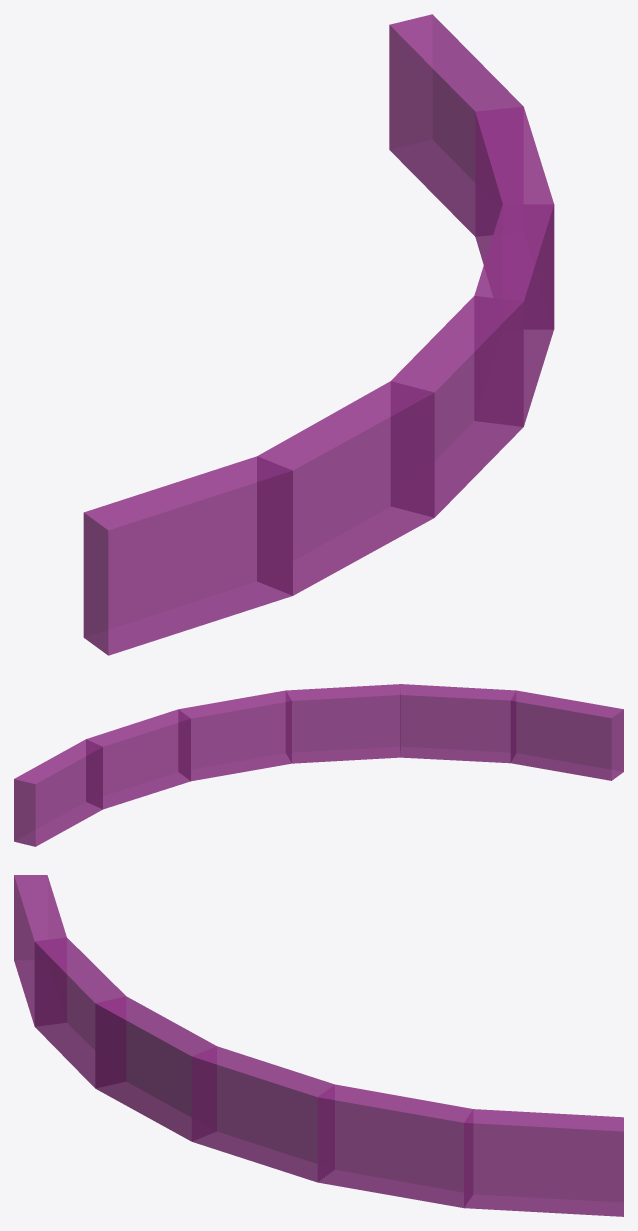
Rendered from SM_Bld_Wall_Curved_Large_Railing_01_Collision.fbx.
3 renders of one model, top to bottom at view 1: azimuth 30°, elevation 25°; view 2: azimuth 150°, elevation 25°; view 3: azimuth 270°, elevation 25°, orthographic. The views are drawn at different scales.
Visible parts, largest first — view 1: SM_Bld_Wall_Curved_Large_Railing_01_Collision; view 2: SM_Bld_Wall_Curved_Large_Railing_01_Collision; view 3: SM_Bld_Wall_Curved_Large_Railing_01_Collision.
Part boxes in pixels (left/top/right/bottom): SM_Bld_Wall_Curved_Large_Railing_01_Collision: left=83, top=14, right=554, bottom=655; SM_Bld_Wall_Curved_Large_Railing_01_Collision: left=14, top=684, right=623, bottom=846; SM_Bld_Wall_Curved_Large_Railing_01_Collision: left=14, top=875, right=623, bottom=1216.
Bounding box in the file's own units: 513 × 79.49 × 515.
